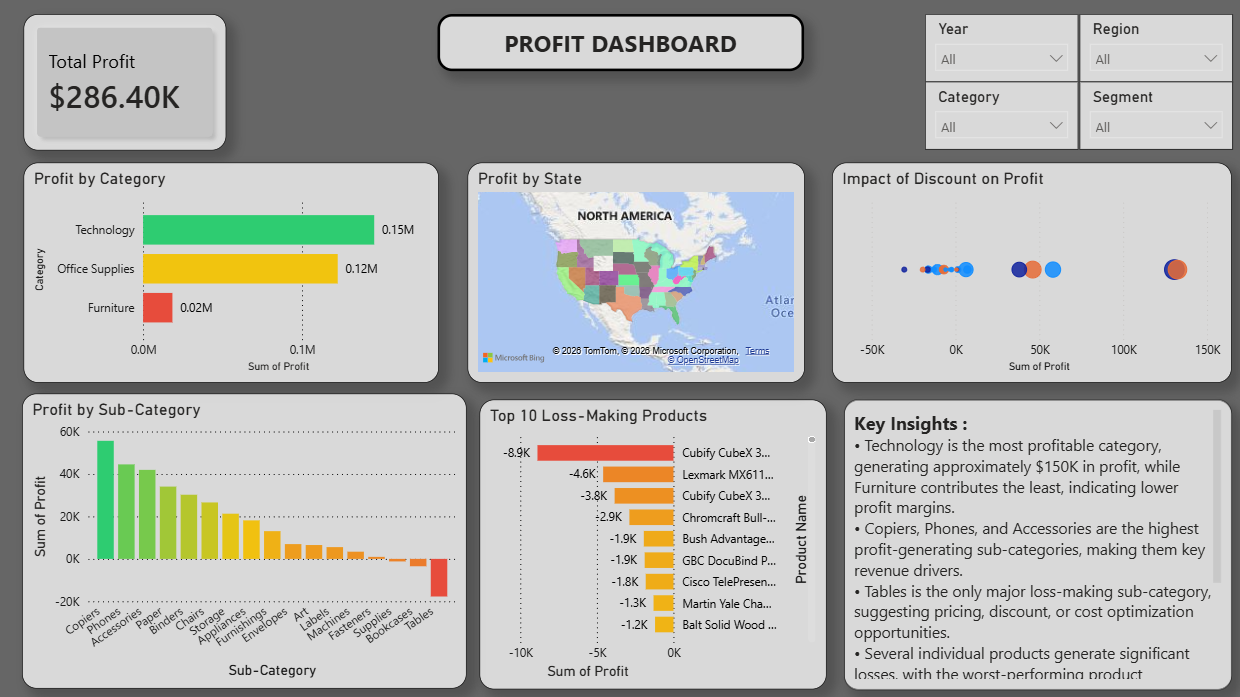

The dashboard page shown, as its layout file describes it:
{"tool":"powerbi","page":{"name":"Page 2","canvas":[1280,720],"ordinal":1},"visuals":[{"type":"cardVisual","fields":{"Data":["Sum(Sample - Superstore.Profit)"]},"box":[26,16,208,140],"z":0},{"type":"clusteredBarChart","title":"Profit by Category","fields":{"Category":["Sample - Superstore.Category"],"Y":["Sum(Sample - Superstore.Profit)"]},"box":[26,168,426,226],"z":1000},{"type":"columnChart","title":"Profit by Sub-Category","fields":{"Category":["Sample - Superstore.Sub-Category"],"Y":["Sum(Sample - Superstore.Profit)"]},"box":[25,405,456.2,302.5],"z":2000},{"type":"scatterChart","title":"Impact of Discount on Profit","fields":{"Category":["Sample - Superstore.Discount"],"Series":["Sample - Superstore.Category"],"X":["Sum(Sample - Superstore.Profit)"],"Size":["Sum(Sample - Superstore.Sales)"]},"box":[856,168,410,226],"z":3000},{"type":"clusteredBarChart","title":"Top 10 Loss-Making Products","fields":{"Y":["Sum(Sample - Superstore.Profit)"],"Category":["Sample - Superstore.Product Name"]},"box":[493.8,410,356.2,297.5],"z":4000},{"type":"filledMap","title":"Profit by State","fields":{"Series":["Sample - Superstore.Profit"],"Category":["Sample - Superstore.State"]},"box":[482,168,346,226],"z":5000},{"type":"slicer","fields":{"Values":["Sample - Superstore.Order Date.Variation.Date Hierarchy.Year"]},"box":[951.2,15,157.5,70],"z":6000},{"type":"slicer","fields":{"Values":["Sample - Superstore.Region"]},"box":[1108.8,15,157.5,70],"z":7000},{"type":"slicer","fields":{"Values":["Sample - Superstore.Segment"]},"box":[1108.8,85,157.5,70],"z":8000},{"type":"slicer","fields":{"Values":["Sample - Superstore.Category"]},"box":[951.2,85,157.5,70],"z":9000},{"type":"textbox","box":[451.2,15,376.2,58.8],"z":10000},{"type":"textbox","box":[868,410,398,298],"z":11000}]}

Visuals, with their boxes in screenshot pixels (x1, y1, x2, y2), scaled from the page's 1280x720 canvas onto the 1240x697 screenshot:
cardVisual - Sum(Sample - Superstore.Profit): <bbox>25, 15, 227, 151</bbox>
"Profit by Category" clusteredBarChart: <bbox>25, 163, 438, 381</bbox>
"Profit by Sub-Category" columnChart: <bbox>24, 392, 466, 685</bbox>
"Impact of Discount on Profit" scatterChart: <bbox>829, 163, 1226, 381</bbox>
"Top 10 Loss-Making Products" clusteredBarChart: <bbox>478, 397, 823, 685</bbox>
"Profit by State" filledMap: <bbox>467, 163, 802, 381</bbox>
slicer - Sample - Superstore.Order Date.Variation.Date Hierarchy.Year: <bbox>921, 15, 1074, 82</bbox>
slicer - Sample - Superstore.Region: <bbox>1074, 15, 1227, 82</bbox>
slicer - Sample - Superstore.Segment: <bbox>1074, 82, 1227, 150</bbox>
slicer - Sample - Superstore.Category: <bbox>921, 82, 1074, 150</bbox>
textbox: <bbox>437, 15, 802, 71</bbox>
textbox: <bbox>841, 397, 1226, 685</bbox>
